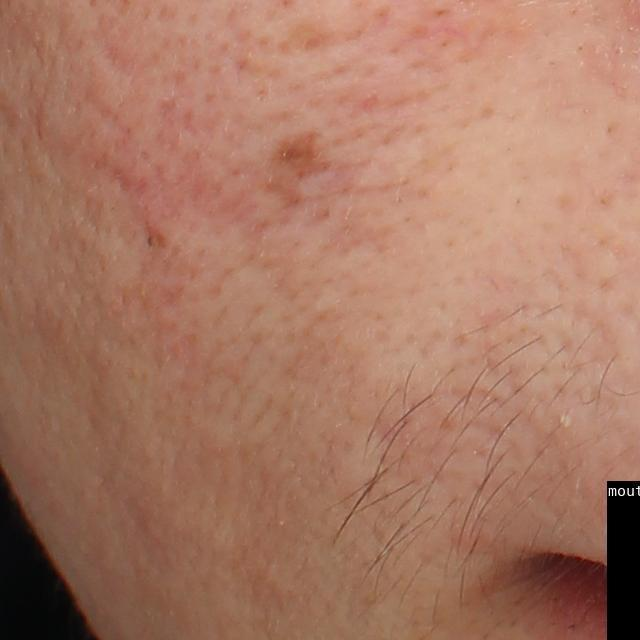atrophic_scar: (92, 17, 154, 96), (97, 163, 159, 226), (271, 129, 340, 184), (254, 174, 307, 230), (280, 12, 346, 56)
